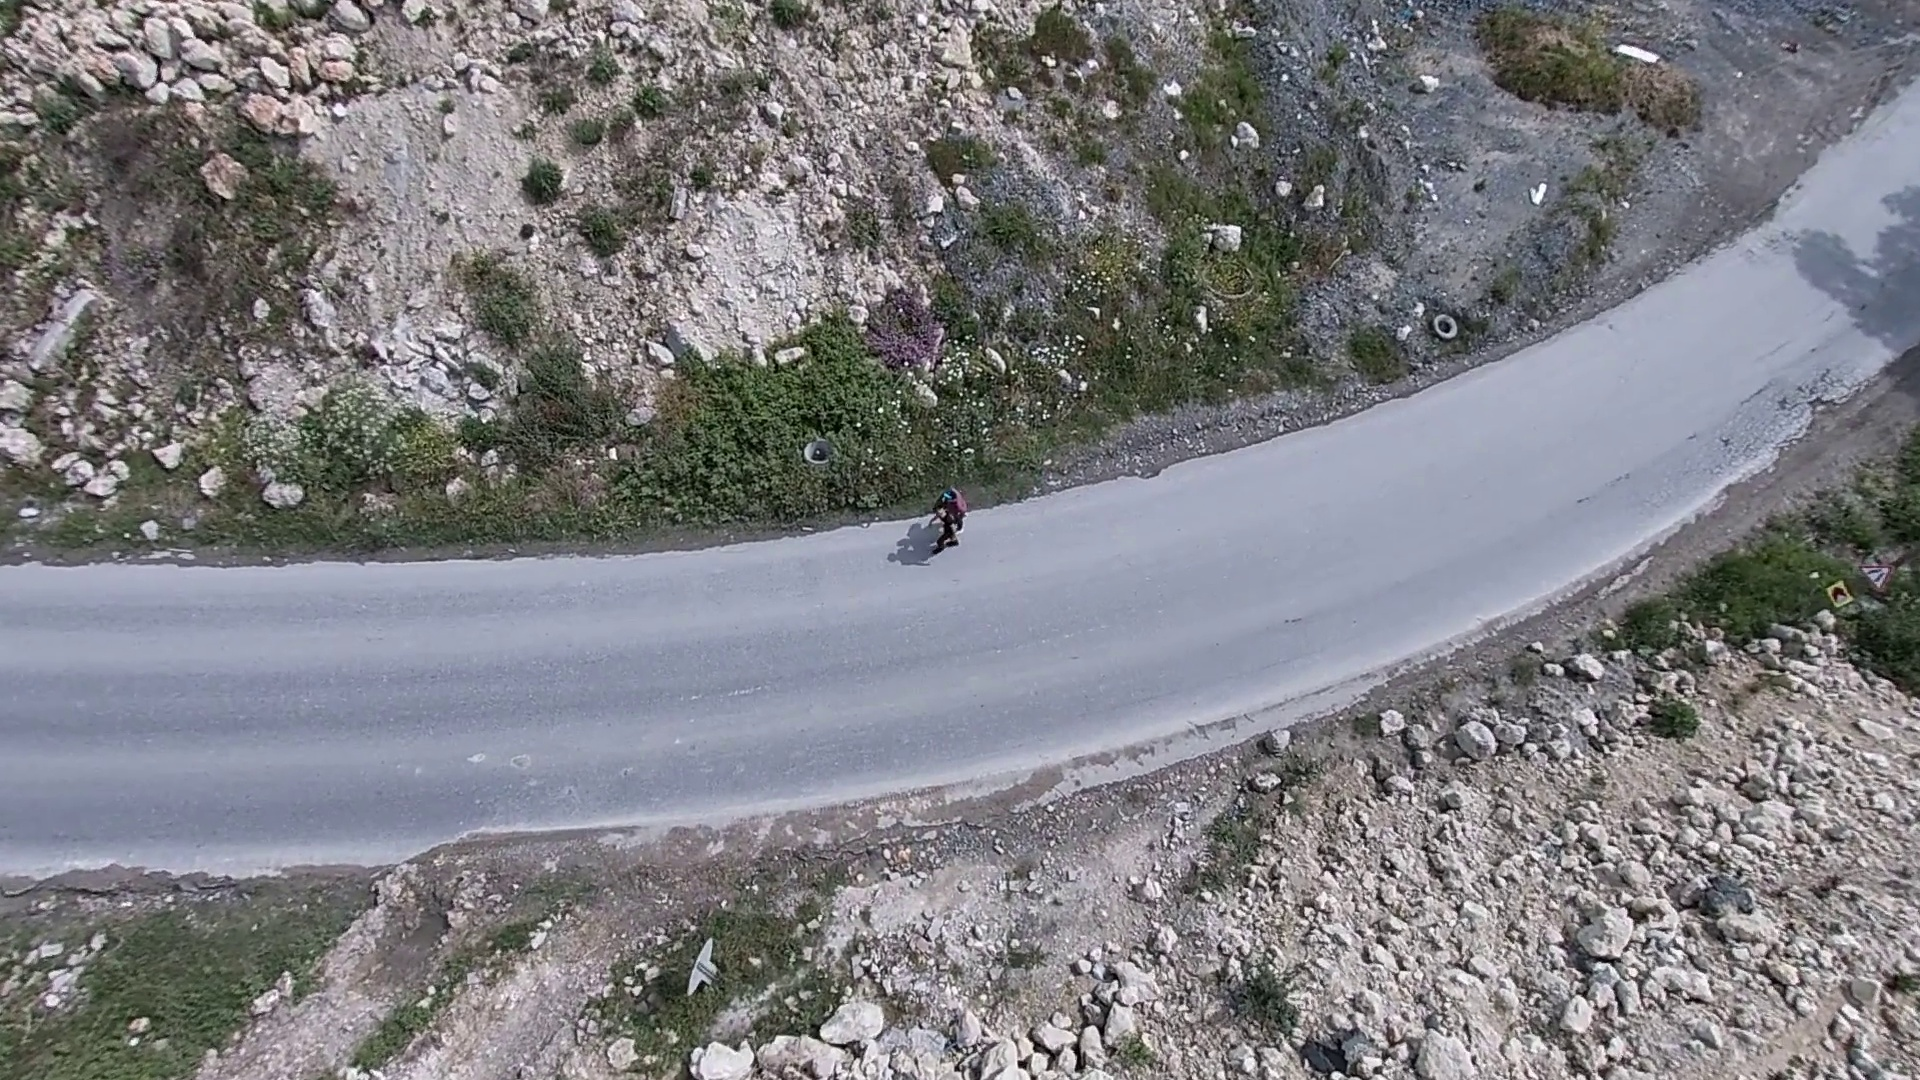insan: (921, 502, 957, 550), (941, 487, 969, 534)
